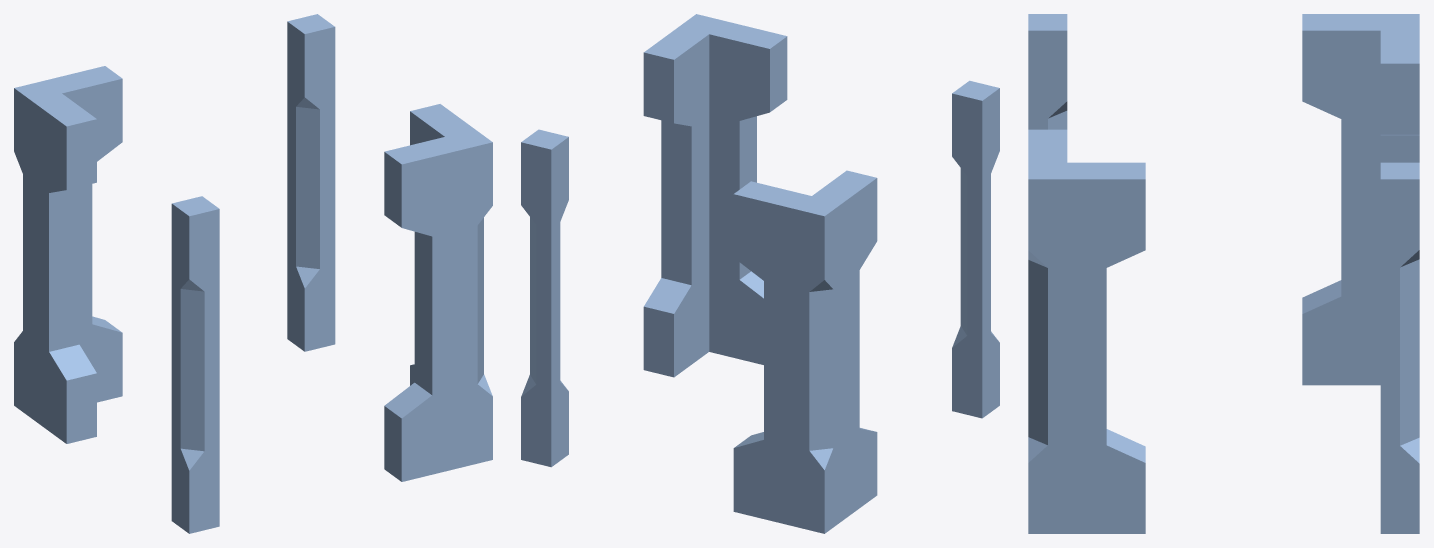
Rendered from Cube005_Outside.fbx.
3 views of the same model, side by side, from view 1: azimuth 30°, elevation 25°; view 2: azimuth 150°, elevation 25°; view 3: azimuth 270°, elevation 25° (orthographic). The views are drawn at different scales.
Visible parts, largest first — view 1: Cube.001; view 2: Cube.001; view 3: Cube.001.
Part boxes in pixels (box(x1,y1,x2,y2)): Cube.001: box(14, 14, 492, 533); Cube.001: box(521, 14, 999, 533); Cube.001: box(1028, 14, 1419, 533).
Bounding box in the file's own units: 100 × 100 × 100.
